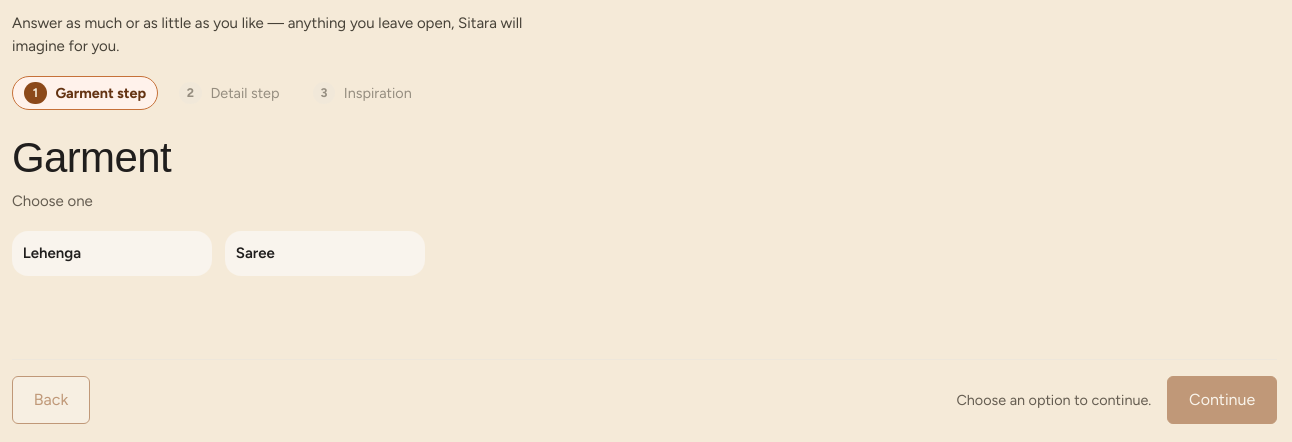
Test case: QuestionnaireWizard › does not report success when the save fails, and keeps the value
Click the radio button labelled "Lehenga": x=112, y=254 [12,231,212,276]
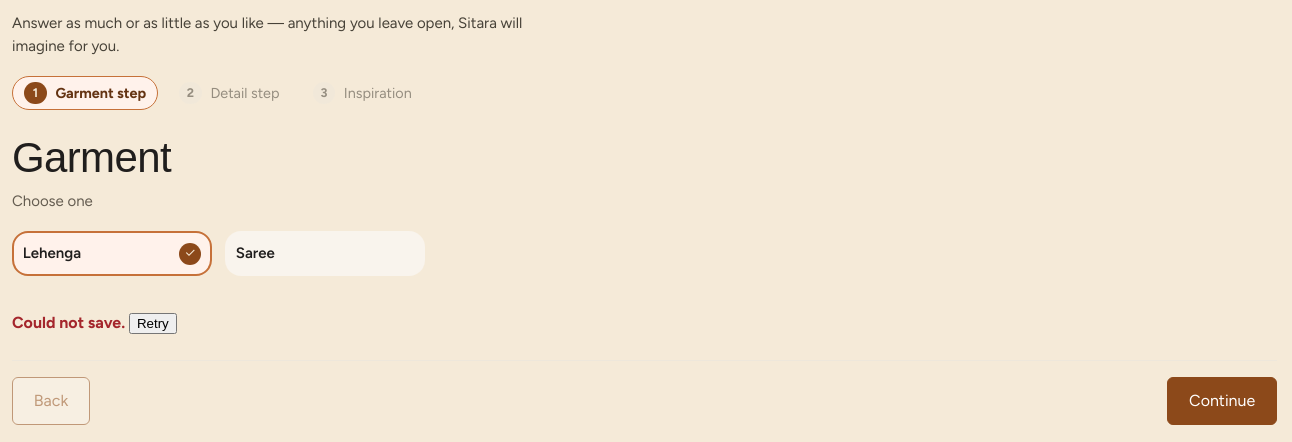
Check: the radio button labelled "Lehenga" is checked, box [12,231,212,276]
Check: the text "Could not save." is shown, box [12,313,125,332]
Check: the button "Retry" is shown, box [129,313,177,334]
